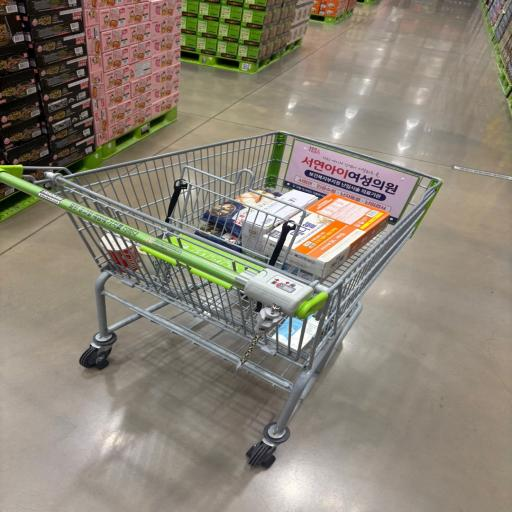fully_cart: (0, 122, 457, 479)
